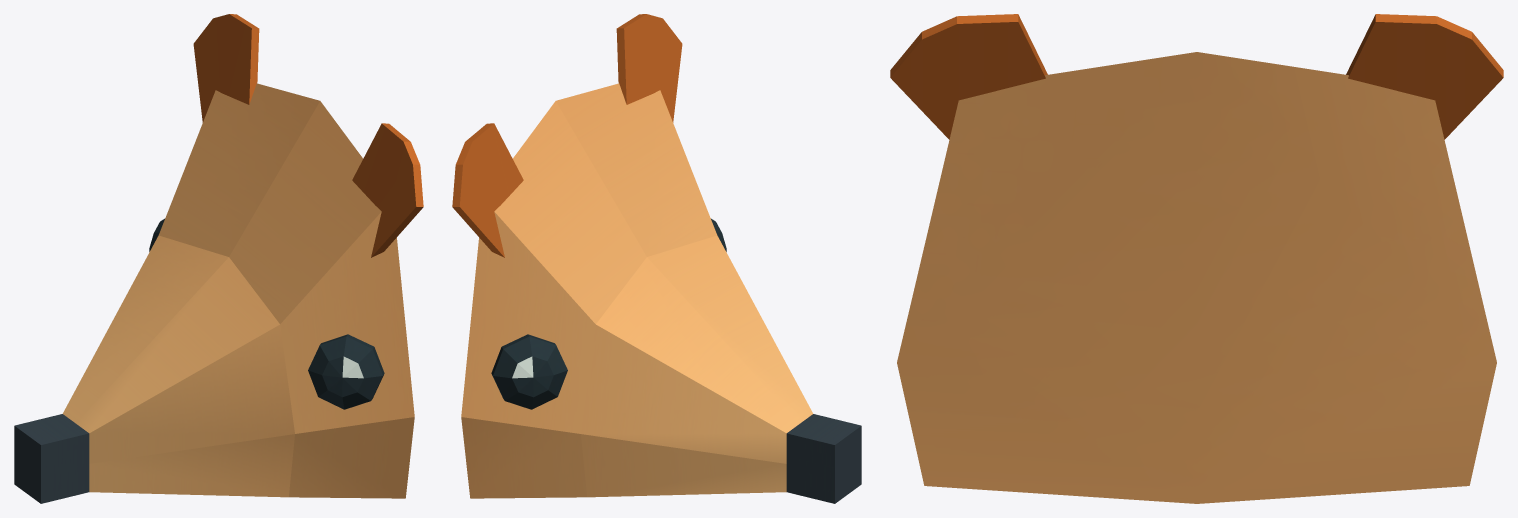
File: Herisson_Head.fbx
The picture shows the model from 3 angles, left to right: view 1: azimuth 30°, elevation 25°; view 2: azimuth 150°, elevation 25°; view 3: azimuth 270°, elevation 25°; orthographic projection. The views are drawn at different scales.
Visible parts, largest first — view 1: Herisson_Head; view 2: Herisson_Head; view 3: Herisson_Head.
Part boxes in pixels (x1,y1,x2,y2): Herisson_Head: [14, 14, 423, 503]; Herisson_Head: [452, 14, 861, 503]; Herisson_Head: [890, 14, 1503, 503].
Bounding box in the file's own units: 21.83 × 25.39 × 28.4.
